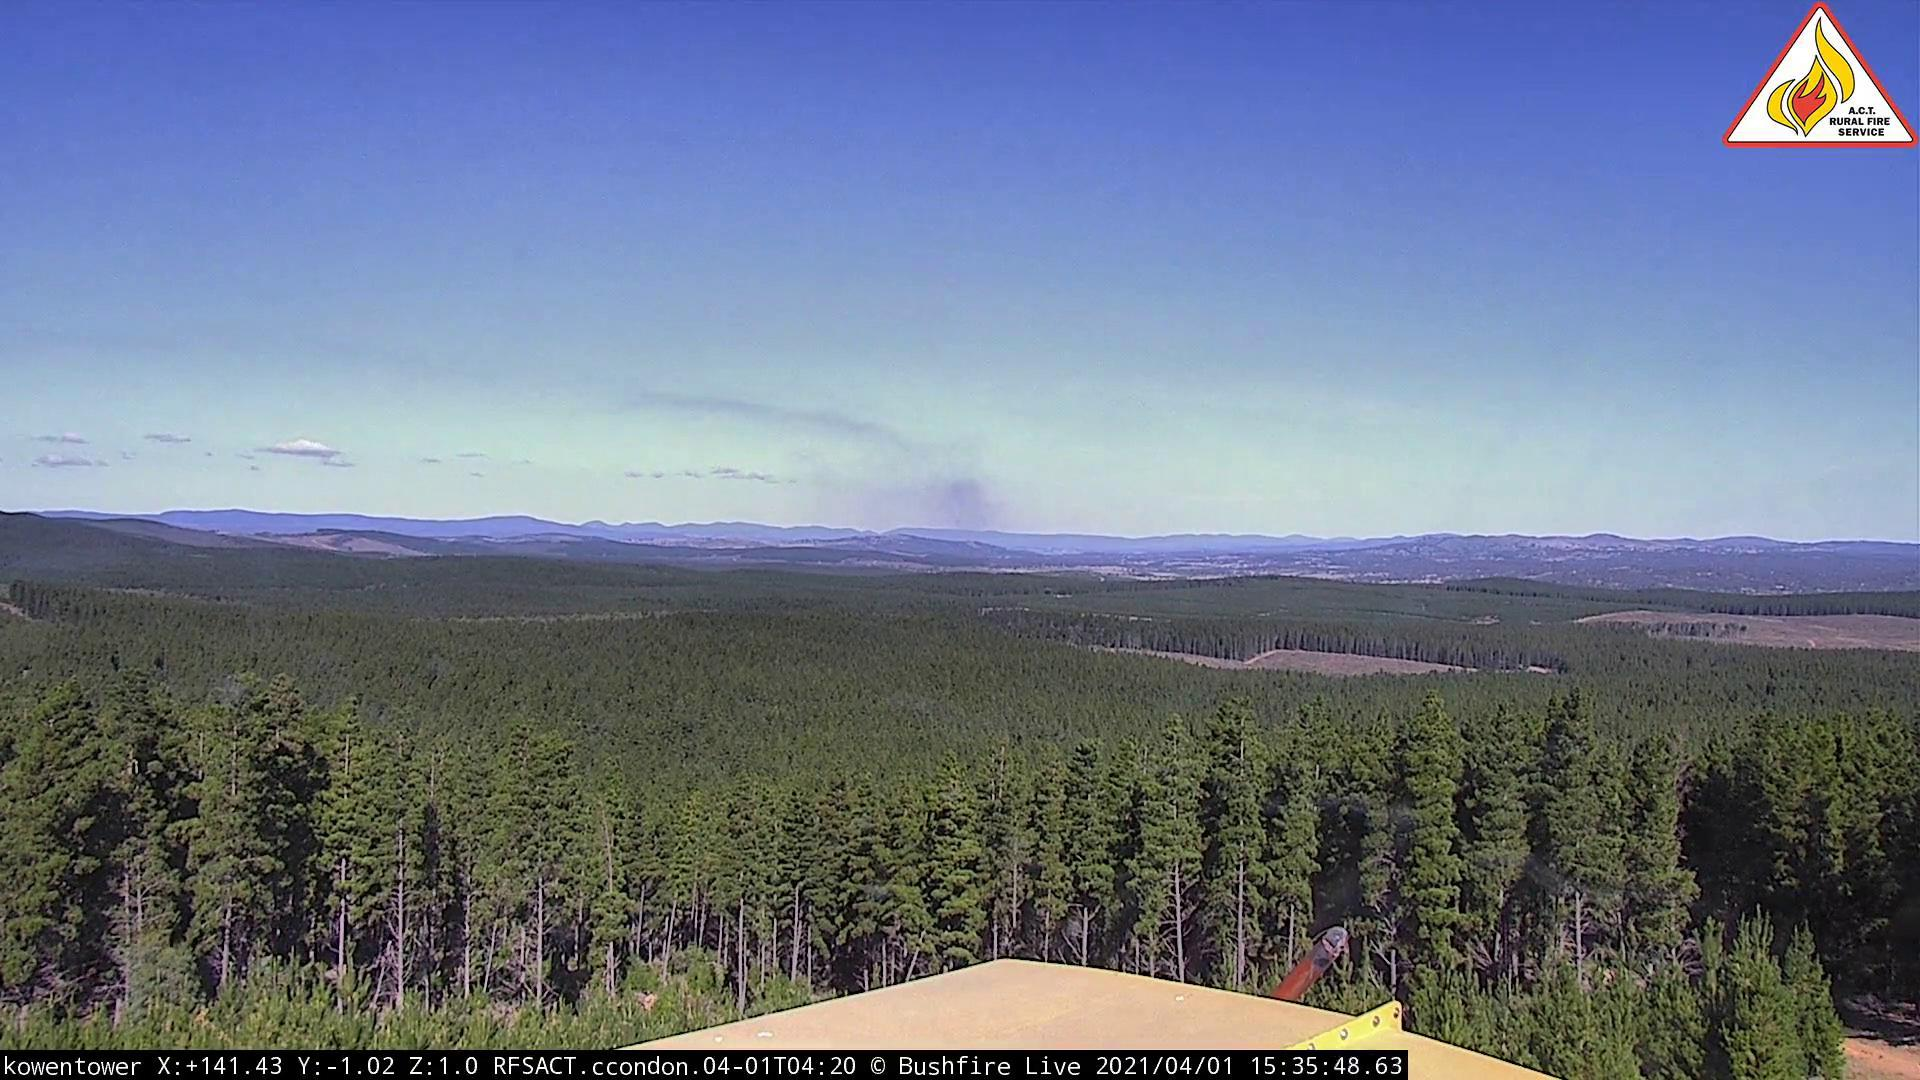Smoke: (775, 444, 1015, 556)
